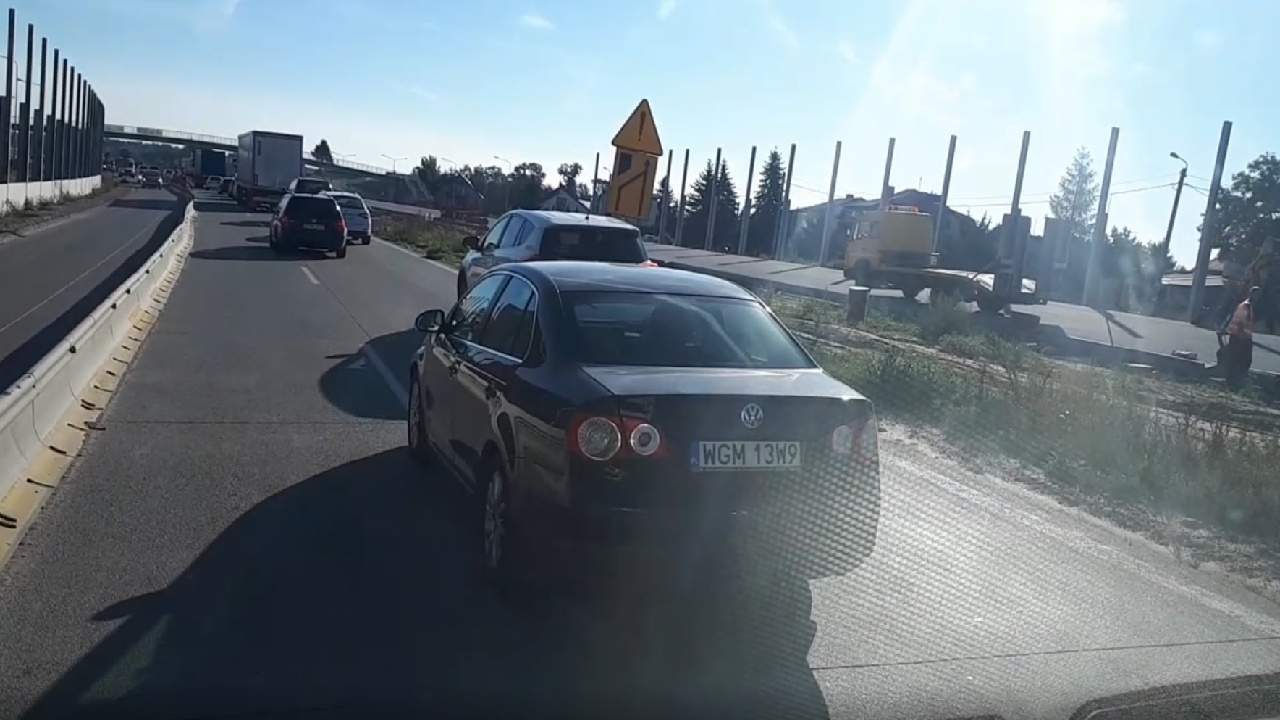A30: (609, 96, 667, 158)
